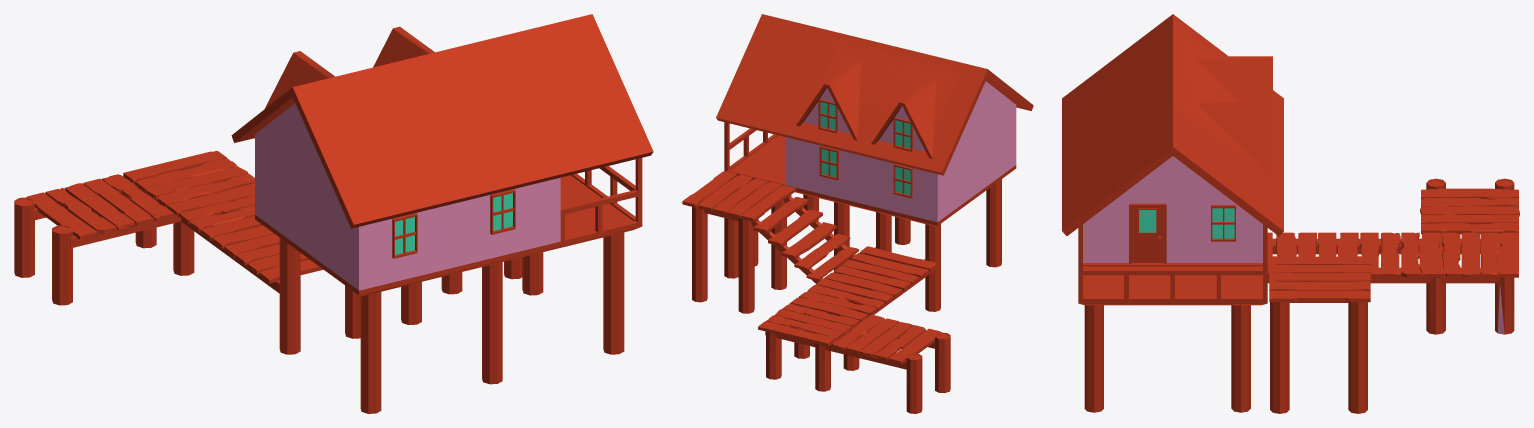
Rendered from Domek.fbx.
The picture shows the model from 3 angles, left to right: view 1: azimuth 30°, elevation 25°; view 2: azimuth 150°, elevation 25°; view 3: azimuth 270°, elevation 25°; orthographic projection. The views are drawn at different scales.
Visible parts, largest first — view 1: słupki_Podstawa_1; view 2: słupki_Podstawa_1; view 3: słupki_Podstawa_1.
Part boxes in pixels (x1,y1,x2,y2): słupki_Podstawa_1: (14, 14, 653, 413); słupki_Podstawa_1: (682, 14, 1033, 413); słupki_Podstawa_1: (1062, 14, 1519, 413).
Bounding box in the file's own units: 1267 × 918 × 1403.
